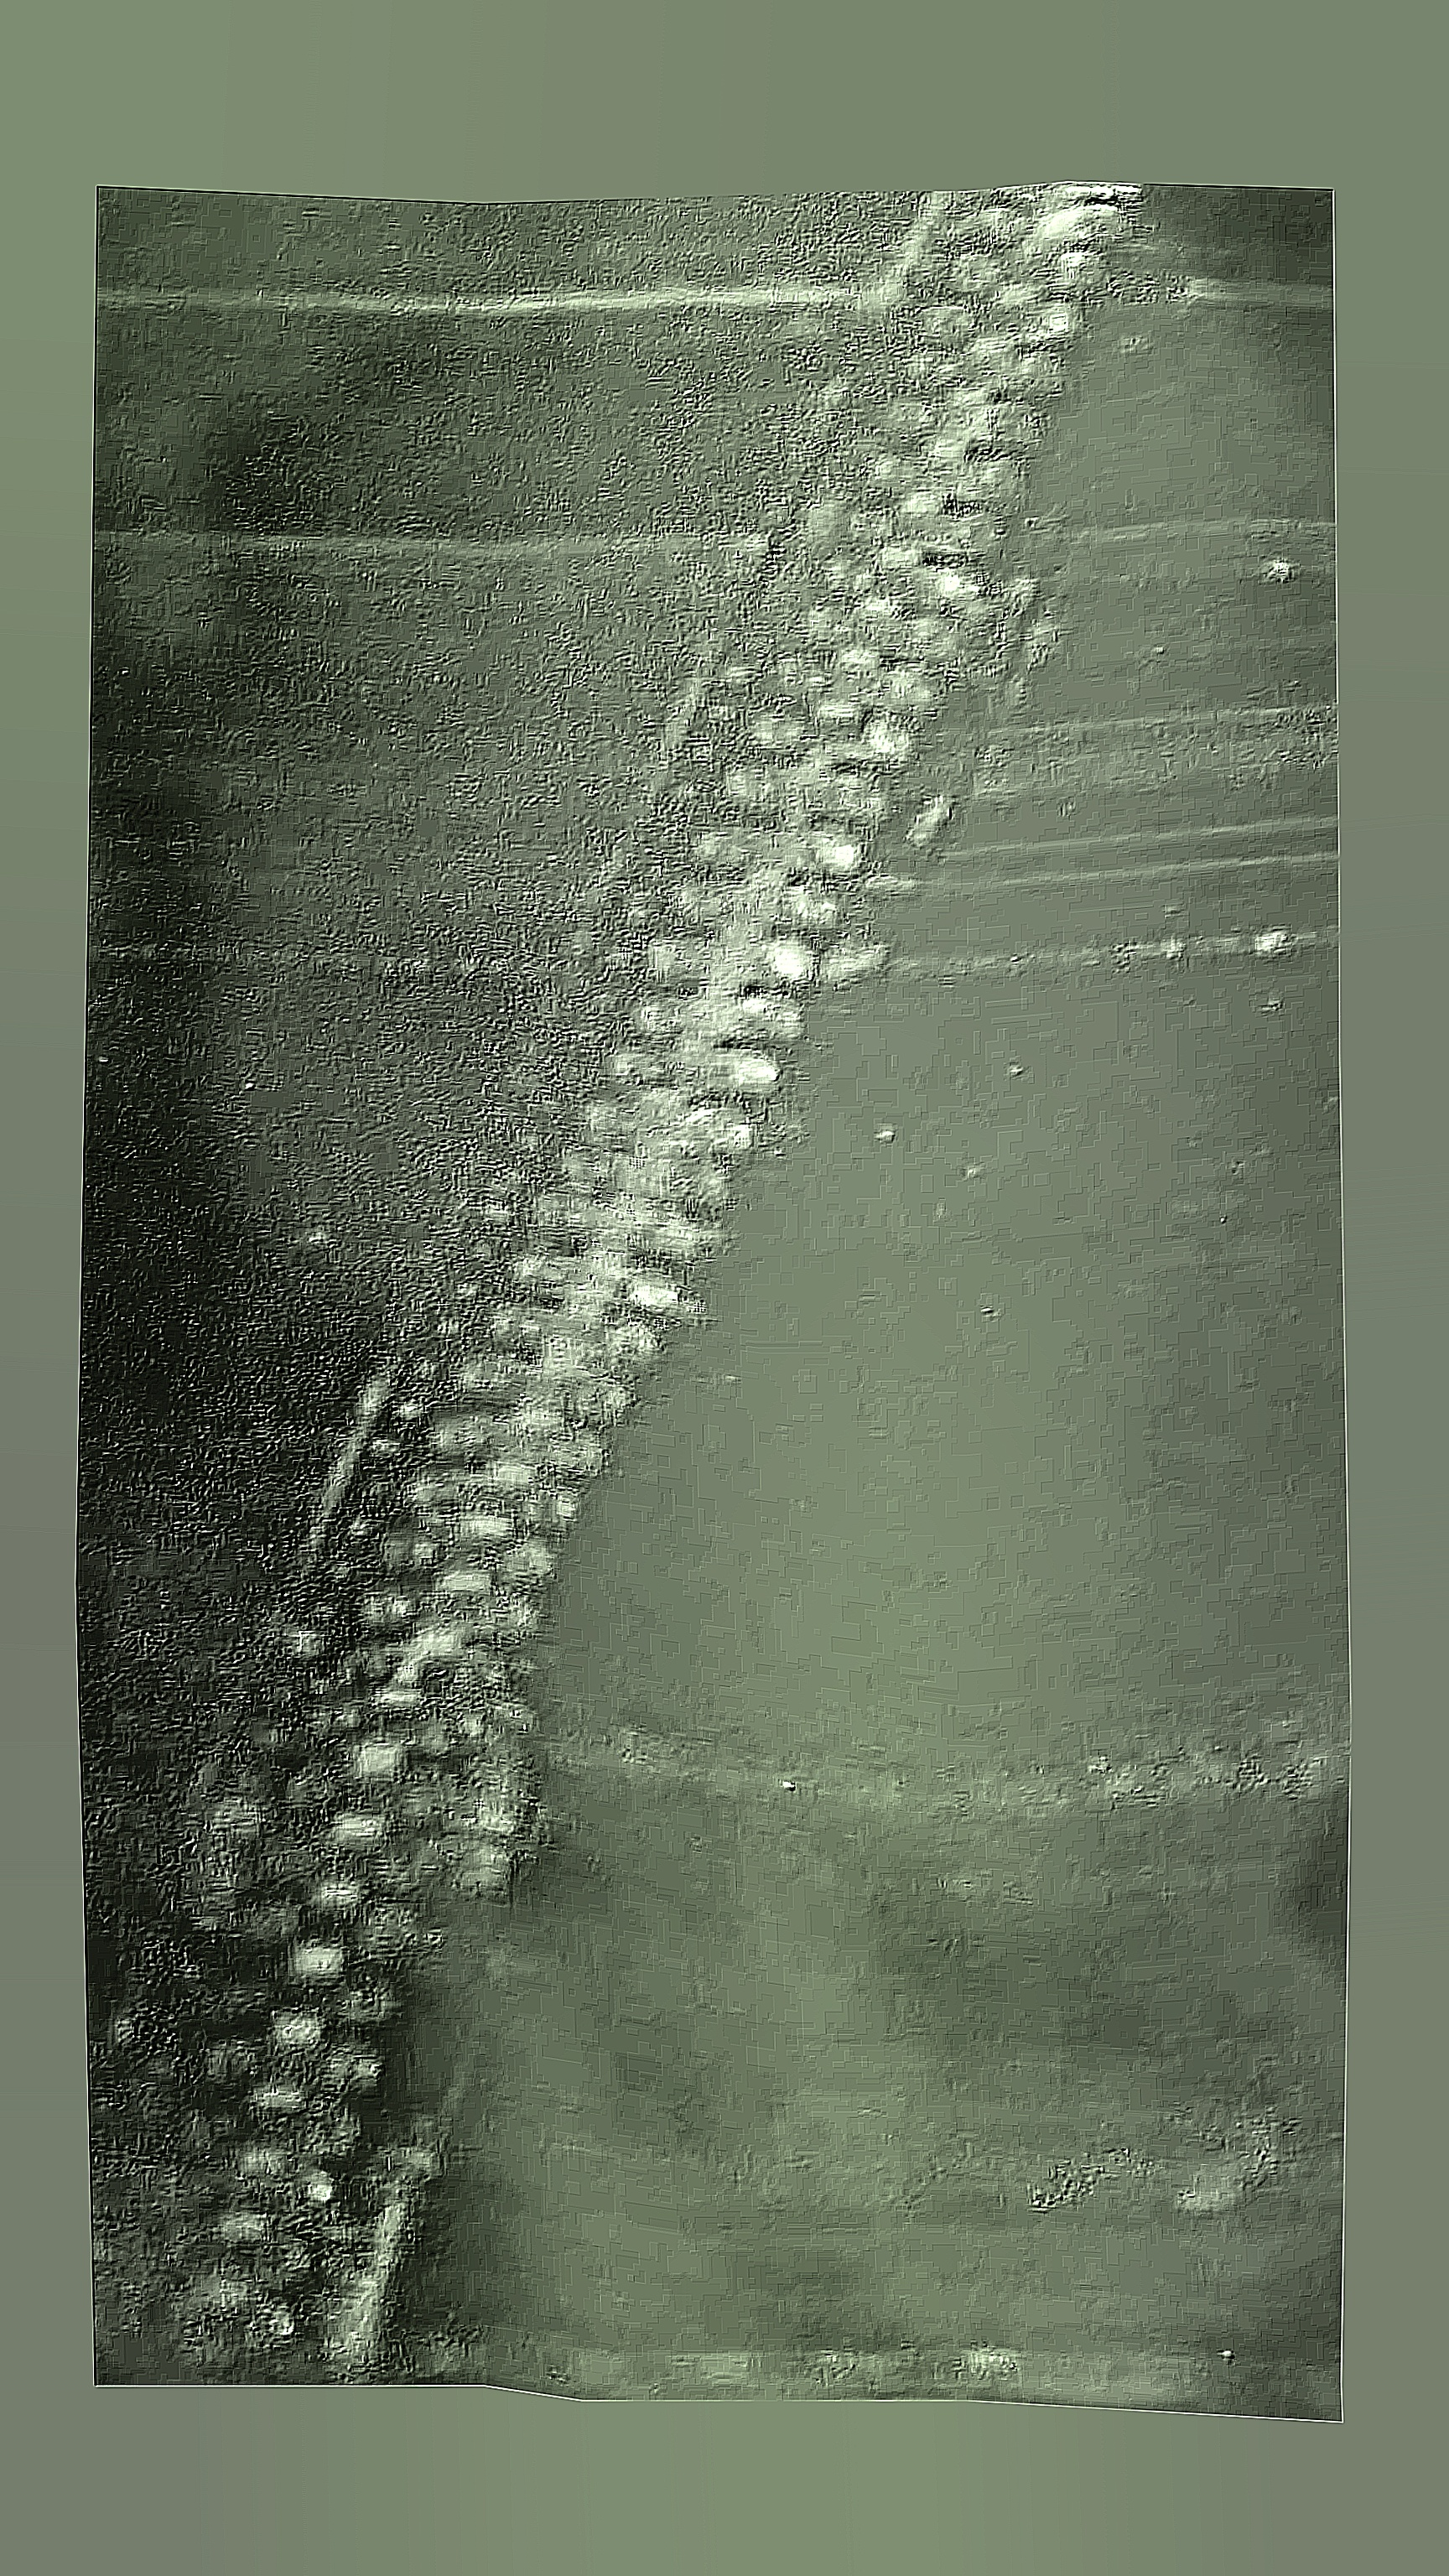splice_vulcanized: (96, 184, 1169, 2408)
